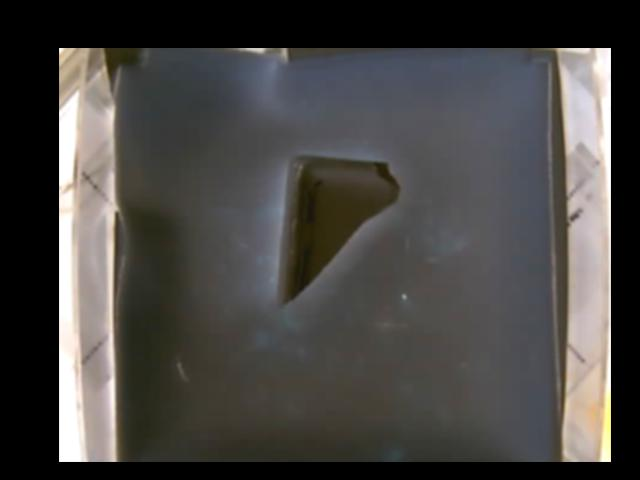China: (276, 155, 400, 309)
